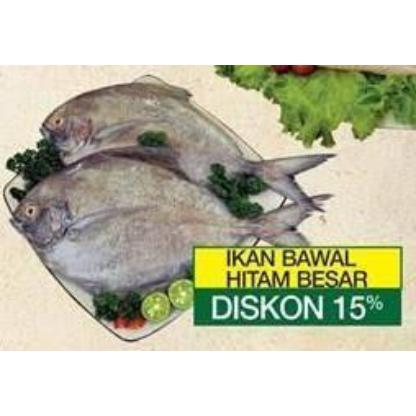ikan-pacu: (15, 155, 280, 292), (41, 75, 293, 179)
